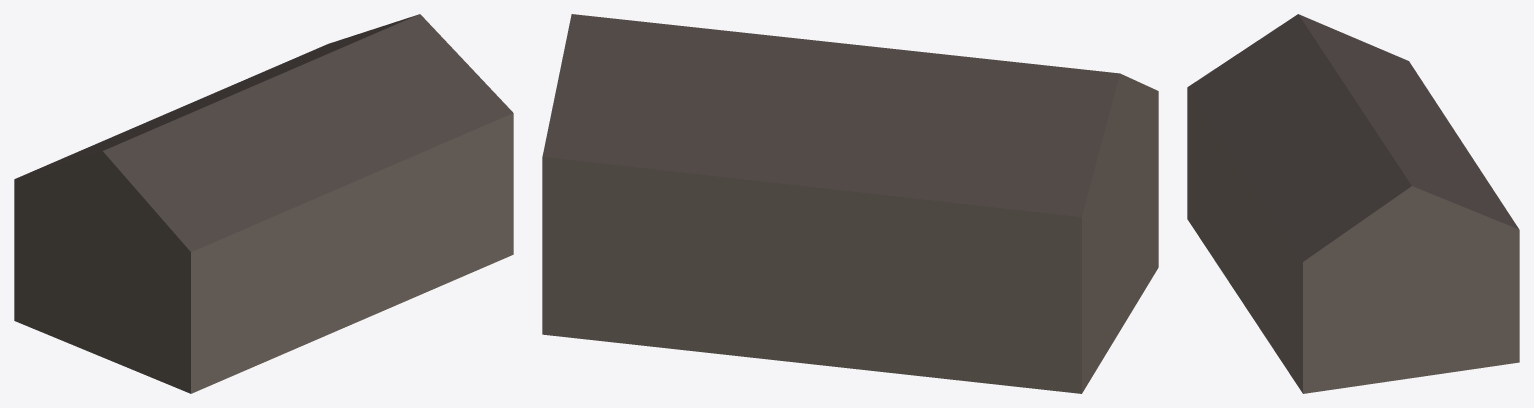
3 renders of one model, left to right at view 1: azimuth 30°, elevation 25°; view 2: azimuth 150°, elevation 25°; view 3: azimuth 270°, elevation 25°, orthographic. The views are drawn at different scales.
Visible parts, largest first — view 1: HP-w1197598051; view 2: HP-w1197598051; view 3: HP-w1197598051.
Boxes of the visible parts, left/top/right/bottom form: HP-w1197598051: left=14, top=14, right=513, bottom=393; HP-w1197598051: left=542, top=14, right=1158, bottom=393; HP-w1197598051: left=1187, top=14, right=1519, bottom=393.
Size of the model in its own units: 19.6 by 8.74 by 13.69.
